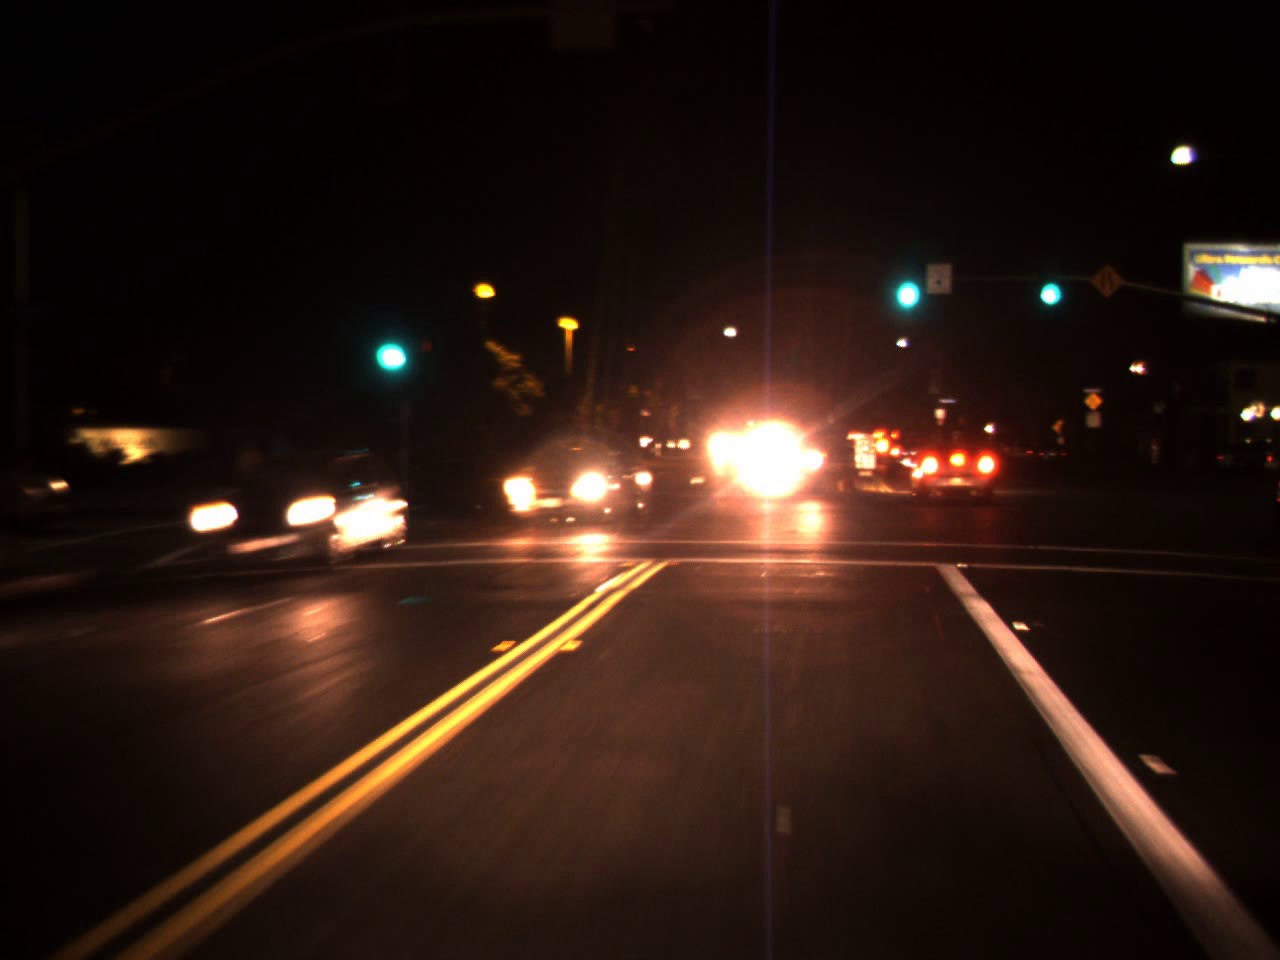go: (362, 305, 414, 383), (886, 245, 925, 320), (1033, 254, 1065, 314)
